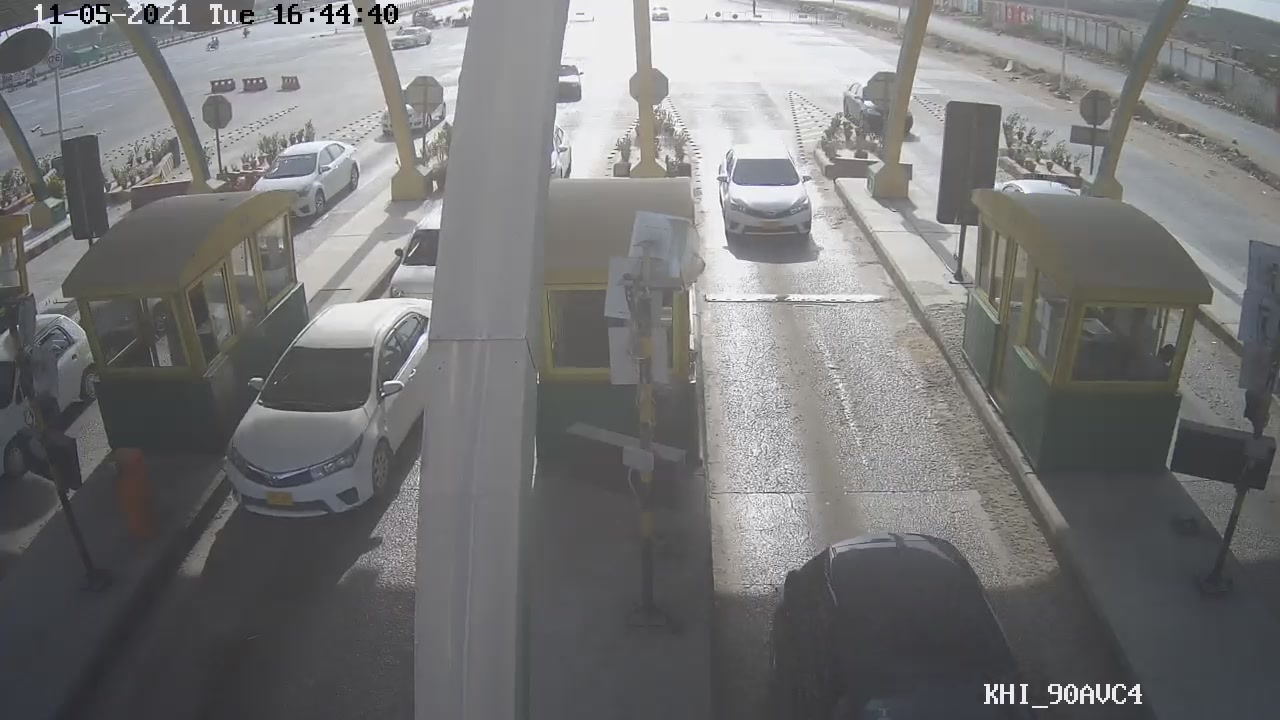F1: (704, 137, 834, 245)
